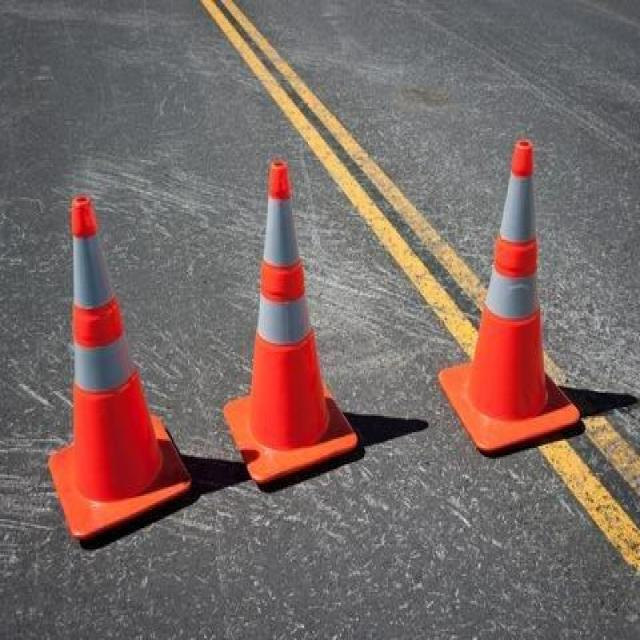Cone: (50, 192, 196, 548), (224, 162, 364, 488), (438, 138, 580, 454)
